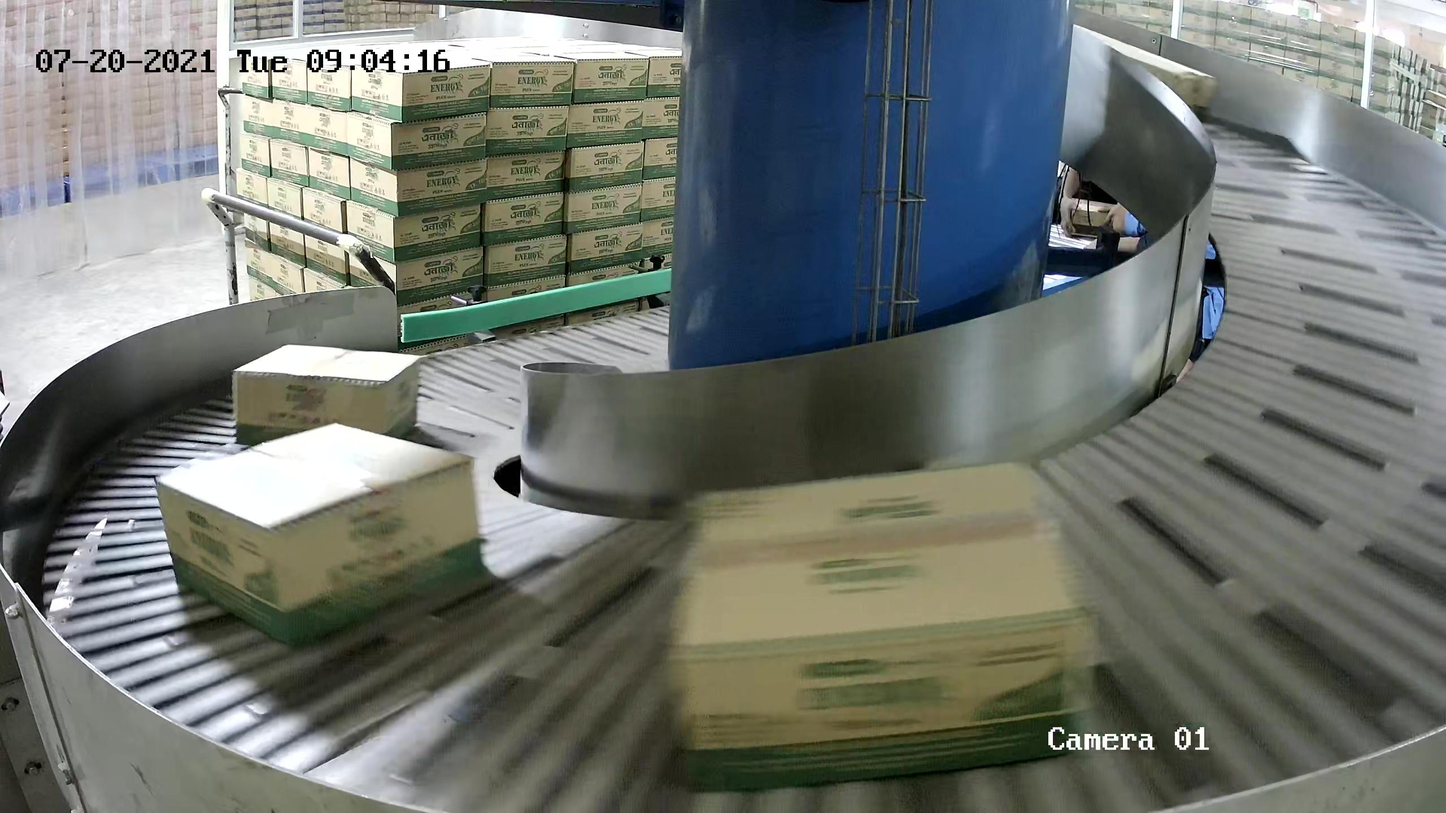Box: (677, 462, 1086, 795), (155, 423, 486, 646), (232, 344, 420, 452)
